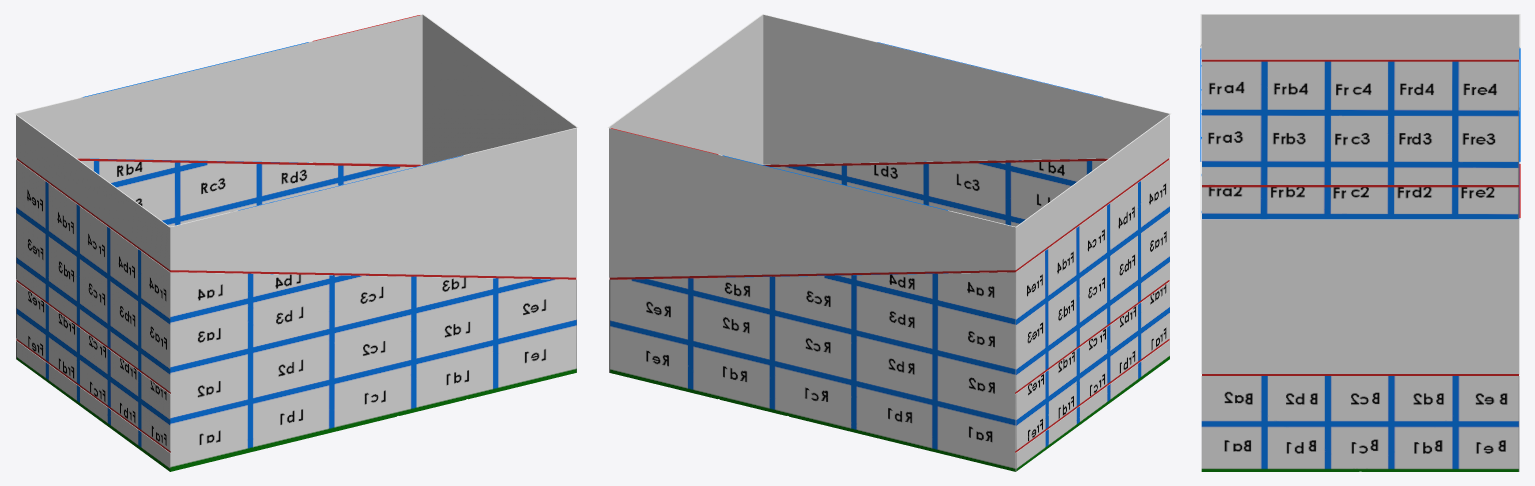
File: SqashCort.fbx
The picture shows the model from 3 angles, left to right: view 1: azimuth 30°, elevation 25°; view 2: azimuth 150°, elevation 25°; view 3: azimuth 270°, elevation 25°; orthographic projection. The views are drawn at different scales.
Visible parts, largest first — view 1: WallMain, Wall; view 2: WallMain, Wall; view 3: WallMain, Wall.
Part boxes in pixels (x1,y1,x2,y2): WallMain: (16, 158, 576, 471); Wall: (14, 14, 578, 277); WallMain: (609, 158, 1169, 471); Wall: (607, 14, 1171, 277); WallMain: (1201, 59, 1519, 471); Wall: (1200, 14, 1520, 373).
Size of the model in its own units: 980 by 561 by 645.
Materials: 1 (1 with a texture image).
